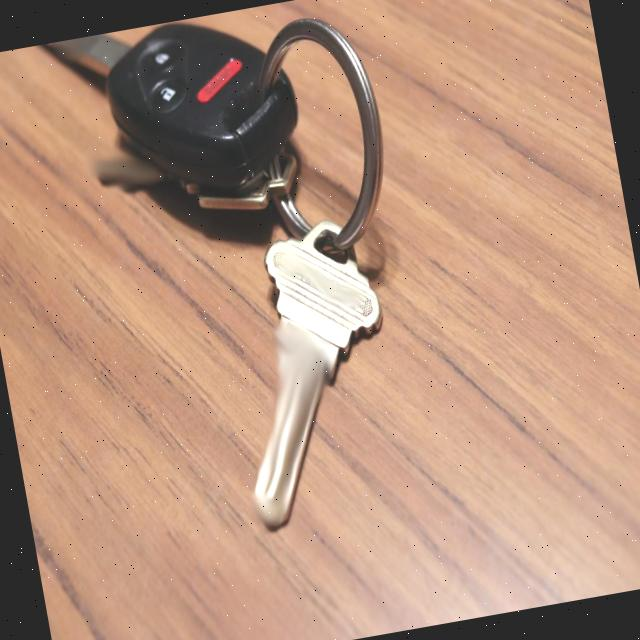Frontdoor keys: (206, 210, 418, 530)
